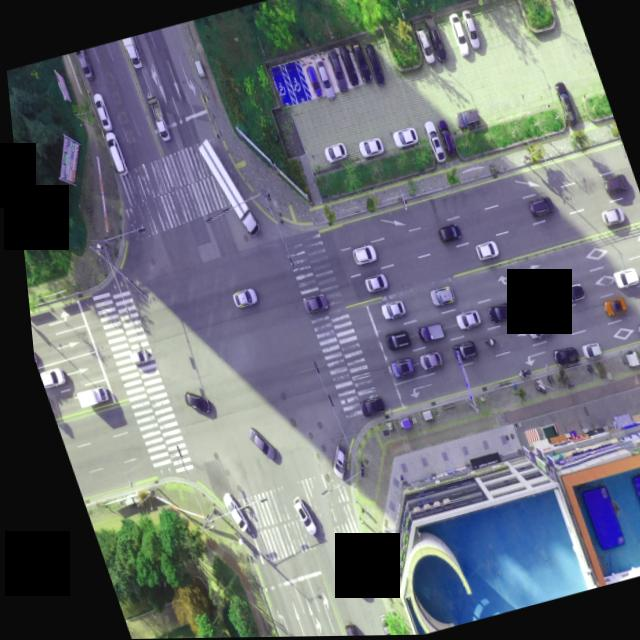car: (211, 489, 239, 533), (238, 425, 268, 465), (101, 131, 125, 176), (362, 43, 386, 88), (325, 49, 349, 92), (425, 20, 449, 63), (310, 55, 334, 97), (175, 385, 205, 418), (448, 14, 471, 57), (283, 496, 307, 537), (421, 121, 444, 163), (336, 45, 359, 87), (460, 11, 482, 52), (352, 44, 374, 85), (317, 446, 343, 480), (336, 559, 357, 597), (89, 91, 109, 130), (433, 120, 454, 157), (555, 93, 576, 130), (417, 27, 437, 64), (450, 108, 480, 132), (598, 172, 628, 196), (388, 127, 418, 150), (606, 267, 636, 290), (30, 363, 60, 386), (303, 62, 322, 98), (522, 195, 550, 219), (295, 290, 324, 313), (352, 392, 379, 416), (445, 340, 473, 363), (480, 301, 508, 323), (381, 357, 409, 379), (545, 346, 573, 368), (522, 292, 551, 313), (347, 244, 373, 267), (520, 318, 547, 340), (226, 286, 253, 308), (355, 137, 382, 159), (595, 297, 622, 319), (553, 282, 580, 304), (73, 49, 92, 80), (411, 350, 437, 372), (320, 142, 346, 164), (378, 329, 404, 351), (373, 298, 400, 319), (423, 285, 450, 306), (448, 309, 475, 330), (357, 271, 383, 292), (595, 206, 621, 227), (469, 239, 494, 260), (432, 224, 456, 245), (121, 343, 143, 363), (573, 342, 596, 361), (363, 616, 378, 636), (630, 322, 640, 345), (331, 624, 347, 637)
medium_truck: (191, 134, 256, 243)
small_truck: (146, 94, 170, 141), (66, 382, 102, 409), (410, 321, 438, 343), (121, 37, 140, 69)
